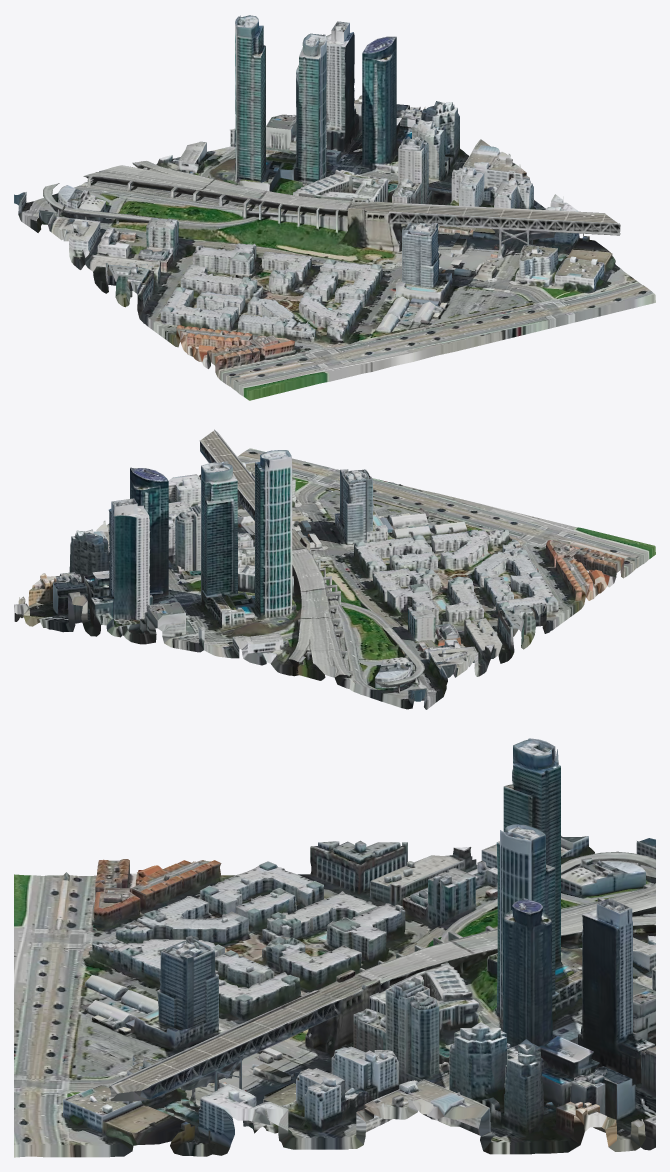
The model's file is z16-10487-25328-h0-yup-uvflip-v3-world.glb.
3 renders of one model, top to bottom at view 1: azimuth 30°, elevation 25°; view 2: azimuth 150°, elevation 25°; view 3: azimuth 270°, elevation 25°, orthographic. The views are drawn at different scales.
Size of the model in its own units: 484 by 222 by 485.
Materials: 1 (1 with a texture image).
